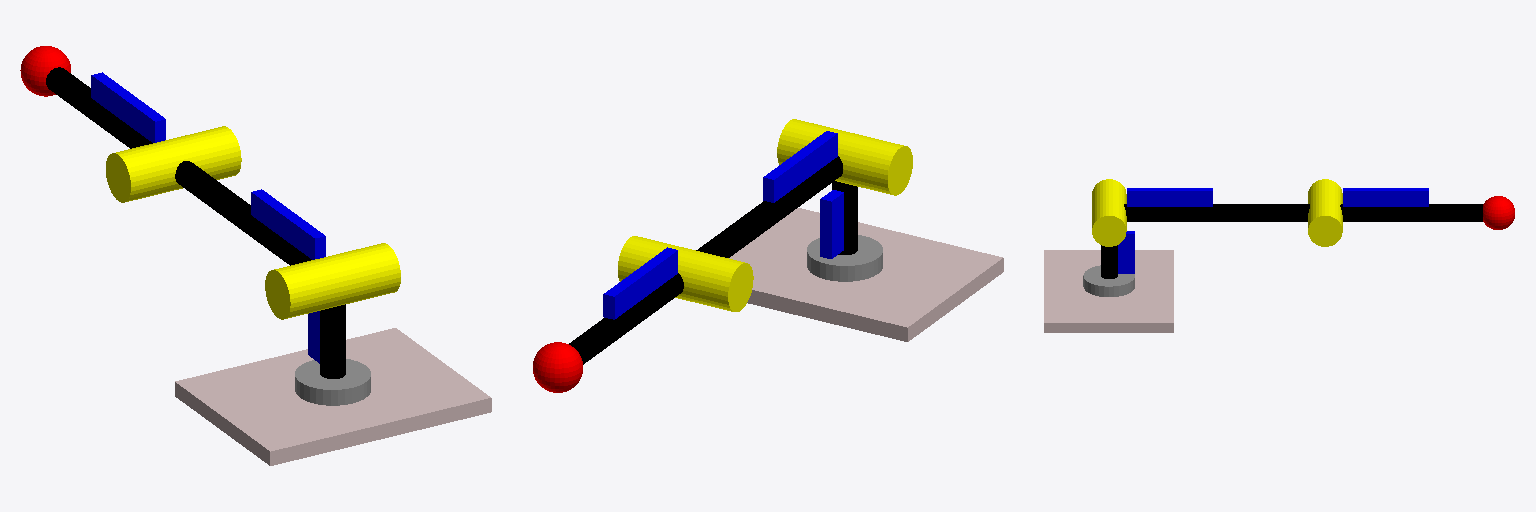
The robot description file, URDF, robot "threeDOF":
<?xml version="1.0"?>

<robot name="threeDOF">
  
  <!-- *************************************************** -->
  <!-- ******************** Kinematics ******************* -->
  <!-- *************************************************** -->
  <!-- Note the 'origin' tag in the joints defines the
       shift and reorientation before the continuous joint
       rotates around the 'axis'. -->

  <link name="world"/>

  <joint name="theta1" type="continuous">
    <parent link="world"/>
    <child  link="link1"/>
    <origin xyz="0 0 0.1" rpy="0 0 0"/>
    <axis   xyz="0 0 1"/>
  </joint>

  <link name="link1"/>

  <joint name="theta2" type="continuous">
    <parent link="link1"/>
    <child  link="link2"/>
    <origin xyz="0 0 0" rpy="0 0 0"/>
    <axis   xyz="1 0 0"/>
  </joint>

  <link name="link2"/>

  <joint name="theta3" type="continuous">
    <parent link="link2"/>
    <child  link="link3"/>
    <origin xyz="0 0.25 0" rpy="0 0 0"/>
    <axis   xyz="-1 0 0"/>
  </joint>

  <link name="link3"/>

  <joint name="shifttotip" type="fixed">
    <parent link="link3"/>
    <child  link="tip"/>
    <origin xyz="0 0.2 0" rpy="0 0 0"/>
  </joint>

  <link name="tip"/>


  <!-- *************************************************** -->
  <!-- ********************* Graphics ******************** -->
  <!-- *************************************************** -->
  <!-- The following is purely to make this look roboticy. -->
  <!-- The 'origin' tag in the link/visual defines the
       center of the object (box, cylinder, sphere, mesh)
       but does not affect the joint chain kinematics. -->

  <!-- *************** Materials / Colors **************** -->

  <material name="white">    <color rgba="1.00 1.00 1.00 1"/>  </material>
  <material name="gray">     <color rgba="0.60 0.60 0.60 1"/>  </material>
  <material name="table">    <color rgba="0.85 0.77 0.77 1"/>  </material>
  <material name="black">    <color rgba="0.00 0.00 0.00 1"/>  </material>

  <material name="red">      <color rgba="1.00 0.00 0.00 1"/>  </material>
  <material name="green">    <color rgba="0.00 1.00 0.00 1"/>  </material>
  <material name="blue">     <color rgba="0.00 0.00 1.00 1"/>  </material>

  <material name="cyan">     <color rgba="0.00 1.00 1.00 1"/>  </material>
  <material name="magenta">  <color rgba="1.00 0.00 1.00 1"/>  </material>
  <material name="yellow">   <color rgba="1.00 1.00 0.00 1"/>  </material>

  <material name="orange">   <color rgba="1.00 0.65 0.00 1"/>  </material>


  <!-- *** Table - attached to world *** -->

  <joint name="attach-table" type="fixed">
    <parent link="world"/>
    <child  link="table"/>
  </joint>

  <link name="table">
    <visual>
      <origin xyz="0 0 0" rpy="0 0 0"/>
      <geometry>
	<box size="0.2 0.15 0.0127"/>
      </geometry>
      <material name="table"/>
    </visual>
  </link>

  <!-- *** Yaw Motor - attached to world *** -->

  <joint name="attach-yawmotor" type="fixed">
    <parent link="world"/>
    <child  link="yawmotor"/>
  </joint>

  <link name="yawmotor">
    <visual>
      <origin xyz="0 0 0.01" rpy="0 0 0"/>
      <geometry>
	<cylinder length="0.02" radius="0.03"/>
      </geometry>
      <material name="gray"/>
    </visual>
  </link>

  <!-- *** Link 1 Bar - attached to link1 (yaw joint output) *** -->

  <joint name="attach-link1bar" type="fixed">
    <parent link="link1"/>
    <child  link="link1bar"/>
  </joint>

  <link name="link1bar">
    <visual>
      <origin xyz="0 0 -0.05" rpy="0 0 0"/>
      <geometry>
	<cylinder length="0.1" radius="0.01"/>
      </geometry>
      <material name="black"/>
    </visual>
  </link>

  <!-- *** Link 1 Sail - attached to link1 (yaw joint output) *** -->

  <joint name="attach-link1sail" type="fixed">
    <parent link="link1"/>
    <child  link="link1sail"/>
  </joint>

  <link name="link1sail">
    <visual>
      <origin xyz="0 0.02 -0.05" rpy="0 0 0"/>
      <geometry>
      	<box size="0.01 0.02 0.05"/>
      </geometry>
      <material name="blue"/>
    </visual>
  </link>

  <!-- *** Pitch 1 Motor - attached to link1 (yaw joint output) *** -->

  <joint name="attach-pitch1motor" type="fixed">
    <parent link="link1"/>
    <child  link="pitch1motor"/>
  </joint>

  <link name="pitch1motor">
    <visual>
      <origin xyz="0 0 0" rpy="0 1.5708 0"/>
      <geometry>
	<cylinder length="0.1" radius="0.02"/>
      </geometry>
      <material name="yellow"/>
    </visual>
  </link>

  <!-- *** Link 2 Bar - attached to link2 (pitch1 joint output) *** -->

  <joint name="attach-link2bar" type="fixed">
    <parent link="link2"/>
    <child  link="link2bar"/>
  </joint>

  <link name="link2bar">
    <visual>
      <origin xyz="0 0.125 0" rpy="-1.5708 0 0"/>
      <geometry>
	<cylinder length="0.25" radius="0.01"/>
      </geometry>
      <material name="black"/>
    </visual>
  </link>

  <!-- *** Link 2 Sail - attached to link2 (pitch1 joint output) *** -->

  <joint name="attach-link2sail" type="fixed">
    <parent link="link2"/>
    <child  link="link2sail"/>
  </joint>

  <link name="link2sail">
    <visual>
      <origin xyz="0 0.07 0.02" rpy="0 0 0"/>
      <geometry>
      	<box size="0.01 0.1 0.02"/>
      </geometry>
      <material name="blue"/>
    </visual>
  </link>

  <!-- *** Pitch 2 Motor - attached to link1 (yaw joint output) *** -->

  <joint name="attach-pitch2motor" type="fixed">
    <parent link="link2"/>
    <child  link="pitch2motor"/>
  </joint>

  <link name="pitch2motor">
    <visual>
      <origin xyz="0 0.25 0" rpy="0 1.5708 0"/>
      <geometry>
	<cylinder length="0.1" radius="0.02"/>
      </geometry>
      <material name="yellow"/>
    </visual>
  </link>

  <!-- *** Link 3 Bar - attached to link3 (pitch2 joint output) *** -->

  <joint name="attach-link3bar" type="fixed">
    <parent link="link3"/>
    <child  link="link3bar"/>
  </joint>

  <link name="link3bar">
    <visual>
      <origin xyz="0 0.1 0" rpy="-1.5708 0 0"/>
      <geometry>
	<cylinder length="0.2" radius="0.01"/>
      </geometry>
      <material name="black"/>
    </visual>
  </link>

  <!-- *** Link 3 Sail - attached to link3 (pitch2 joint output) *** -->

  <joint name="attach-link3sail" type="fixed">
    <parent link="link3"/>
    <child  link="link3sail"/>
  </joint>

  <link name="link3sail">
    <visual>
      <origin xyz="0 0.07 0.02" rpy="0 0 0"/>
      <geometry>
      	<box size="0.01 0.1 0.02"/>
      </geometry>
      <material name="blue"/>
    </visual>
  </link>

  <!-- *** Tip Ball - attached to tip *** -->

  <joint name="attach-tipball" type="fixed">
    <parent link="tip"/>
    <child  link="tipball"/>
  </joint>

  <link name="tipball">
    <visual>
      <origin xyz="0 0 0" rpy="0 0 0"/>
      <geometry>
      	<sphere radius="0.02"/>
      </geometry>
      <material name="red"/>
    </visual>
  </link>

</robot>

--- Facts derived from the render (not from the file) ---
3 views of the same robot in one strip: view 1: azimuth 30°, elevation 25°; view 2: azimuth 150°, elevation 25°; view 3: azimuth 270°, elevation 25° (orthographic).
Robot: threeDOF — 16 links, 15 joints (3 continuous, 12 fixed); root link world; default pose: every joint at zero.
Links seen in each view (by area): view 1: table, pitch1motor, pitch2motor, link2bar, yawmotor, link3sail, link2sail, link3bar, link1bar, tipball, link1sail; view 2: table, pitch2motor, pitch1motor, link2bar, link3bar, link3sail, link2sail, yawmotor, tipball, link1sail, link1bar; view 3: table, link2bar, link3bar, pitch1motor, pitch2motor, link2sail, link3sail, yawmotor, tipball, link1sail, link1bar.
Link boxes in pixels (left/top/right/bottom): table: left=175, top=328, right=491, bottom=465; pitch1motor: left=265, top=243, right=400, bottom=319; pitch2motor: left=106, top=126, right=241, bottom=202; link2bar: left=175, top=161, right=311, bottom=265; yawmotor: left=295, top=359, right=370, bottom=405; link3sail: left=91, top=72, right=165, bottom=142; link2sail: left=251, top=189, right=325, bottom=259; link3bar: left=46, top=67, right=152, bottom=148; link1bar: left=320, top=304, right=345, bottom=378; tipball: left=20, top=46, right=70, bottom=96; link1sail: left=308, top=311, right=319, bottom=363; table: left=729, top=208, right=1003, bottom=341; pitch2motor: left=618, top=236, right=753, bottom=311; pitch1motor: left=777, top=119, right=912, bottom=195; link2bar: left=696, top=156, right=842, bottom=257; link3bar: left=569, top=273, right=683, bottom=364; link3sail: left=603, top=247, right=677, bottom=319; link2sail: left=763, top=131, right=837, bottom=202; yawmotor: left=807, top=235, right=882, bottom=281; tipball: left=533, top=342, right=582, bottom=392; link1sail: left=820, top=190, right=843, bottom=258; link1bar: left=832, top=181, right=857, bottom=254; table: left=1044, top=250, right=1173, bottom=332; link2bar: left=1124, top=204, right=1309, bottom=221; link3bar: left=1340, top=204, right=1482, bottom=221; pitch1motor: left=1092, top=179, right=1126, bottom=246; pitch2motor: left=1308, top=179, right=1342, bottom=246; link2sail: left=1127, top=188, right=1212, bottom=206; link3sail: left=1343, top=188, right=1428, bottom=206; yawmotor: left=1083, top=265, right=1134, bottom=296; tipball: left=1483, top=196, right=1514, bottom=229; link1sail: left=1118, top=231, right=1134, bottom=273; link1bar: left=1101, top=245, right=1117, bottom=278.
Bounding box of the posed robot: 0.2 × 0.545 × 0.1363 m (x, y, z).
Geometry: primitives only (box / cylinder / sphere), no mesh files.